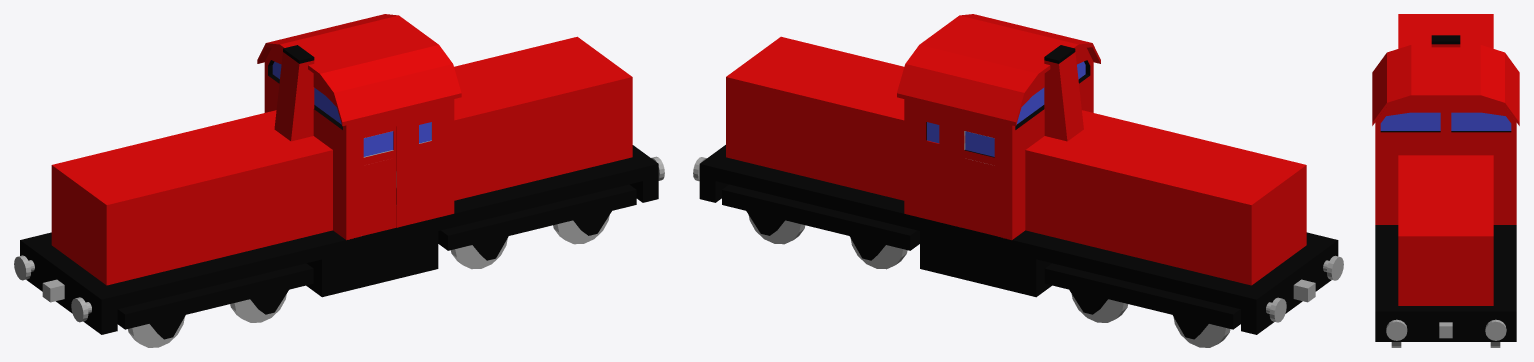
3 renders of one model, left to right at view 1: azimuth 30°, elevation 25°; view 2: azimuth 150°, elevation 25°; view 3: azimuth 270°, elevation 25°, orthographic. The views are drawn at different scales.
Parts seen in each view (by area): view 1: br294; view 2: br294; view 3: br294.
Boxes of the visible parts, x1,y1,x2,y2 form: br294: (14,14,664,347); br294: (693,14,1343,347); br294: (1372,14,1519,347).
Size of the model in its own units: 8.27 by 3.12 by 2.09.
Materials: 1 (1 with a texture image).
